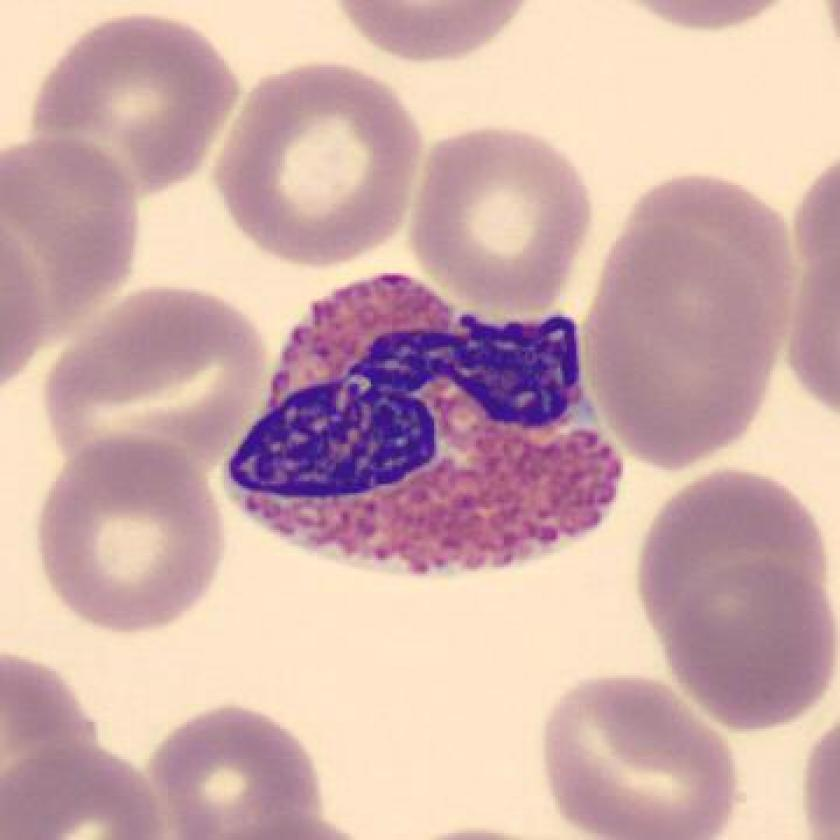eosinophil: (209, 256, 643, 589)
